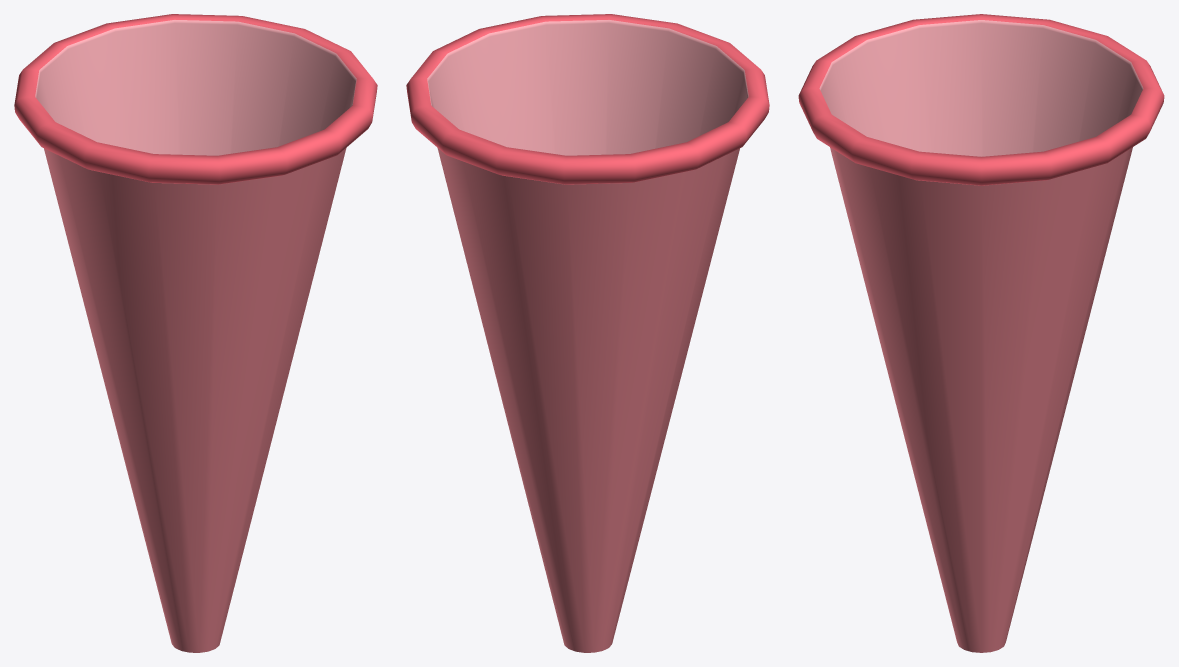
The model's file is Cone A Pink.fbx.
3 renders of one model, left to right at view 1: azimuth 30°, elevation 25°; view 2: azimuth 150°, elevation 25°; view 3: azimuth 270°, elevation 25°, orthographic.
Parts seen in each view (by area): view 1: Cone A Pink; view 2: Cone A Pink; view 3: Cone A Pink.
Part boxes in pixels (x1,y1,x2,y2): Cone A Pink: (14,14,377,652); Cone A Pink: (406,14,769,652); Cone A Pink: (798,14,1164,652).
Bounding box in the file's own units: 0.4323 × 0.7225 × 0.4323.
